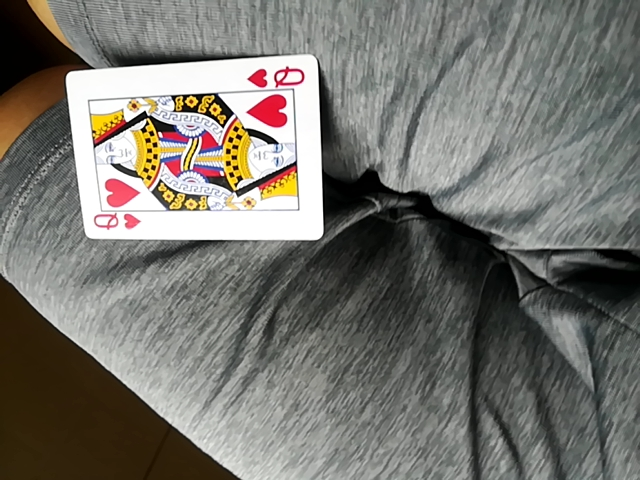hx q: (65, 54, 329, 243)
